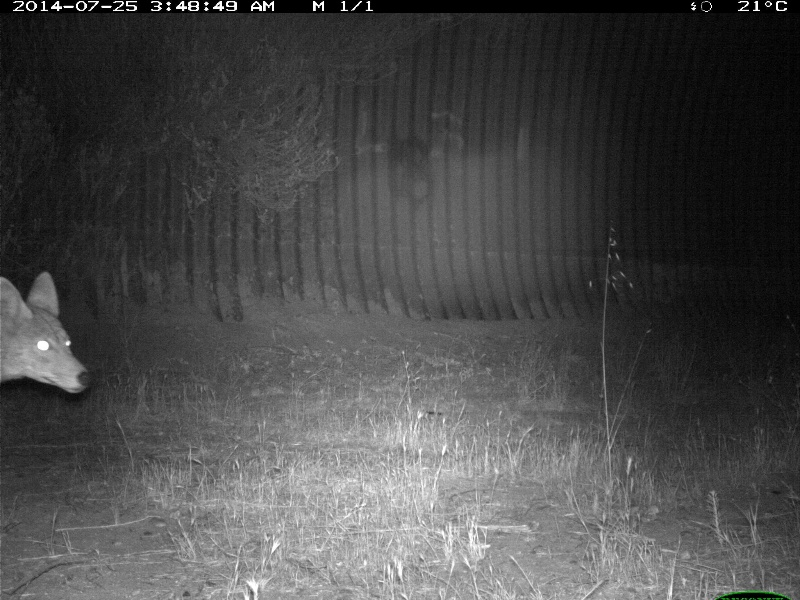coyote: (1, 265, 96, 410)
